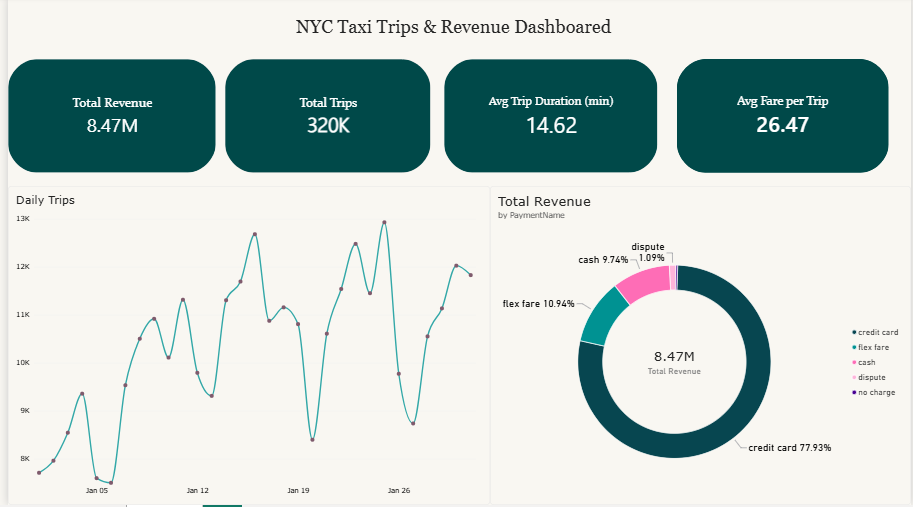

The page's visual inventory and layout, read from the dashboard file:
{"tool":"powerbi","page":{"name":"Page 1","canvas":[1920,1080],"ordinal":0},"visuals":[{"type":"cardVisual","fields":{"Data":["DateTable.Total Trips"]},"box":[461.3,131.8,438,242.4],"z":0},{"type":"cardVisual","fields":{"Data":["DateTable.Avg Fare per Trip"]},"box":[1422.3,131.8,450.7,242.4],"z":1000},{"type":"cardVisual","fields":{"Data":["DateTable.Avg Trip Duration (min)"]},"box":[926.9,131.8,455,242.4],"z":2000},{"type":"donutChart","title":"Total Revenue ","fields":{"Category":["Payment.PaymentName"],"Y":["DateTable.Total Revenue"]},"box":[1024.7,401.8,895,678.2],"z":3000},{"type":"lineChart","title":"Daily Trips","fields":{"Category":["NYC_Taxi.tpep_dropoff_date.Variation.Date Hierarchy.Year","NYC_Taxi.tpep_dropoff_date.Variation.Date Hierarchy.Quarter","NYC_Taxi.tpep_dropoff_date.Variation.Date Hierarchy.Month","NYC_Taxi.tpep_dropoff_date.Variation.Date Hierarchy.Day"],"Y":["CountNonNull(NYC_Taxi.Trip time)"]},"box":[0,401.8,1024.7,678.2],"z":4000},{"type":"cardVisual","fields":{"Data":["DateTable.Total Revenue"]},"box":[0,131.8,442.2,242.4],"z":5000},{"type":"textbox","title":"NYC Taxi Trips & Revenue Dashboared","box":[612.3,42.5,769.6,48.9],"z":6000}]}

Visuals, with their boxes in screenshot pixels (x1, y1, x2, y2), scaled from the page's 1920x1080 canvas onto the 913x507 screenshot:
cardVisual - DateTable.Total Trips: (219, 62, 428, 176)
cardVisual - DateTable.Avg Fare per Trip: (676, 62, 891, 176)
cardVisual - DateTable.Avg Trip Duration (min): (441, 62, 657, 176)
"Total Revenue " donutChart: (487, 189, 912, 506)
"Daily Trips" lineChart: (0, 189, 487, 506)
cardVisual - DateTable.Total Revenue: (0, 62, 210, 176)
"NYC Taxi Trips & Revenue Dashboared" textbox: (291, 20, 657, 43)
